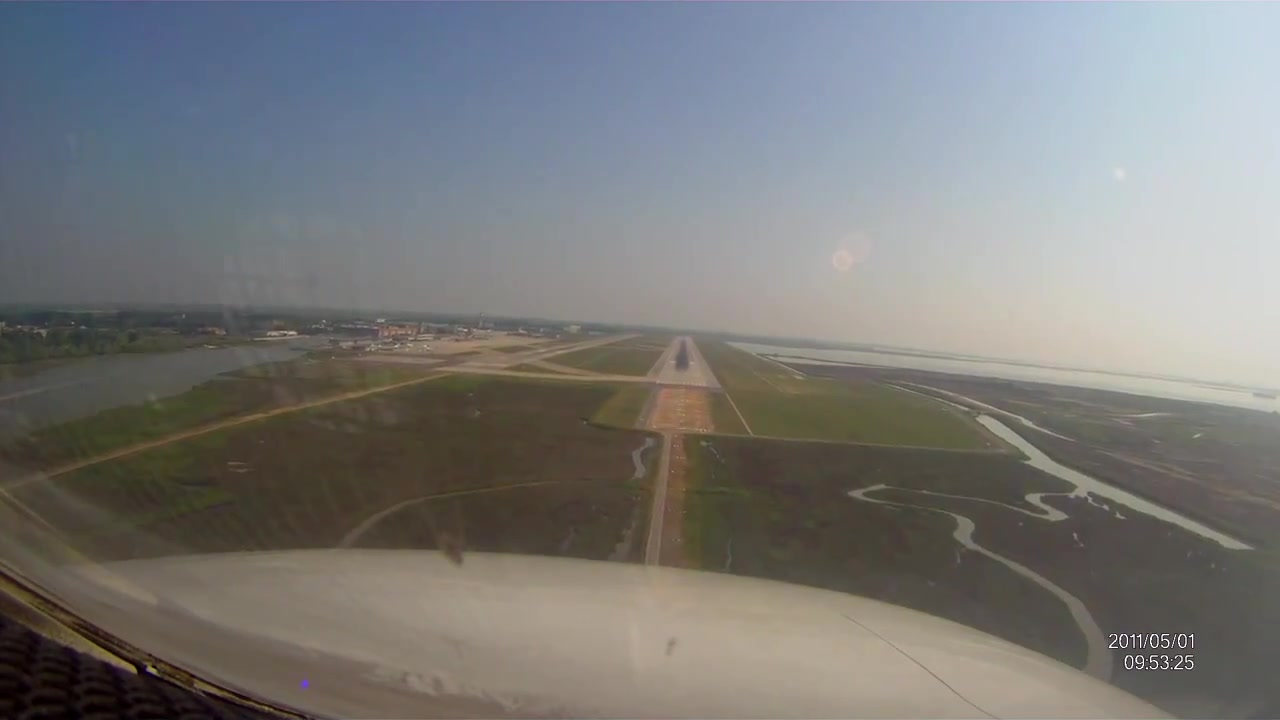runway: (654, 336, 711, 388)
